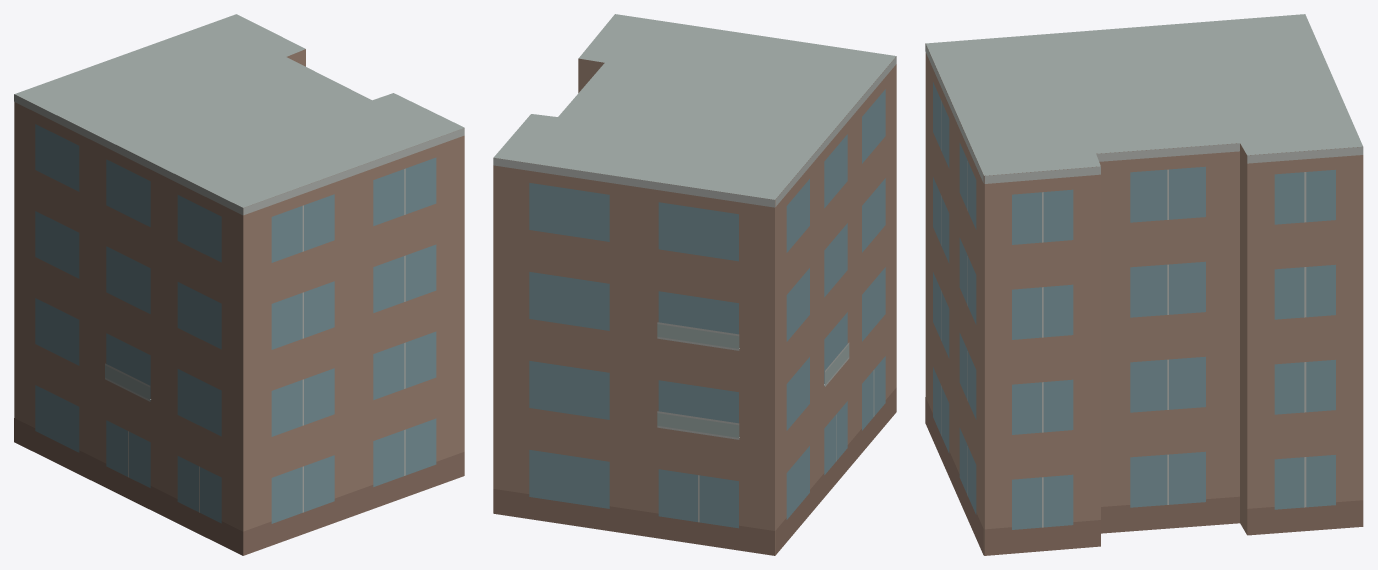
The model's file is survey-upis-32994952.glb.
3 views of the same model, side by side, from view 1: azimuth 30°, elevation 25°; view 2: azimuth 150°, elevation 25°; view 3: azimuth 270°, elevation 25° (orthographic). The views are drawn at different scales.
Parts seen in each view (by area): view 1: survey-upis-32994952.tmp; view 2: survey-upis-32994952.tmp; view 3: survey-upis-32994952.tmp.
Boxes of the visible parts, x1,y1,x2,y2 form: survey-upis-32994952.tmp: [14, 14, 464, 555]; survey-upis-32994952.tmp: [493, 14, 896, 555]; survey-upis-32994952.tmp: [925, 14, 1363, 555].
Size of the model in its own units: 10.24 by 11.2 by 11.7.
